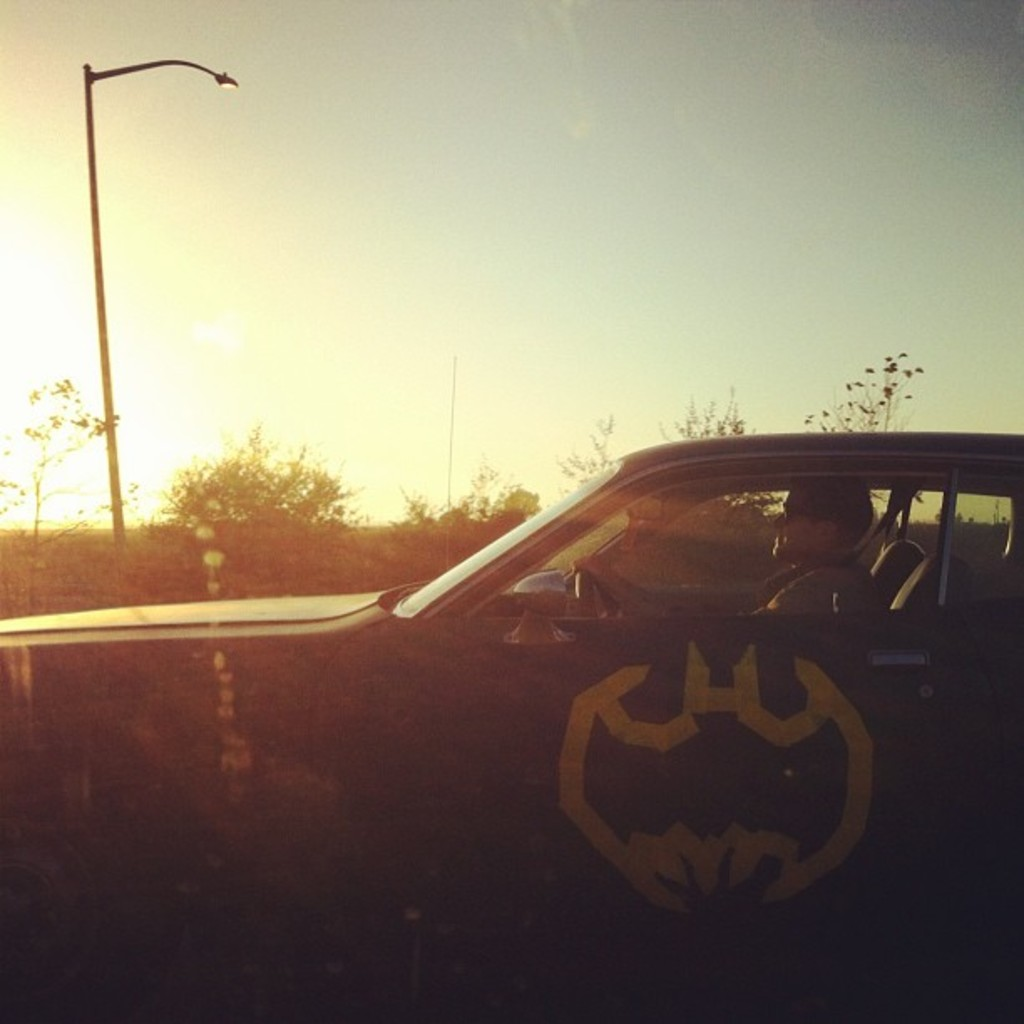mobil: (35, 437, 1024, 948)
